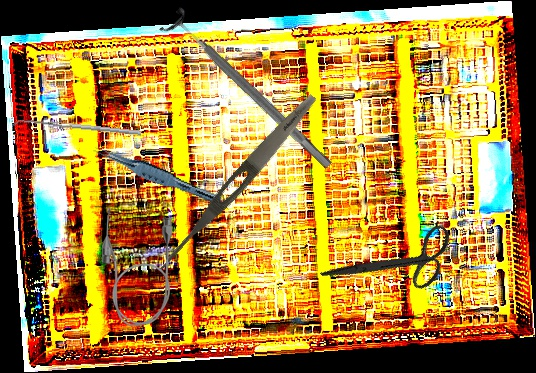Cannula: (102, 210, 172, 326)
Dressing Forceps: (153, 89, 322, 278)
Fixation Ring: (158, 4, 341, 179)
Iris Scissors: (320, 190, 466, 335)
Spatula Surgical: (11, 117, 142, 140)
Tissue Forceps: (90, 143, 225, 206)
